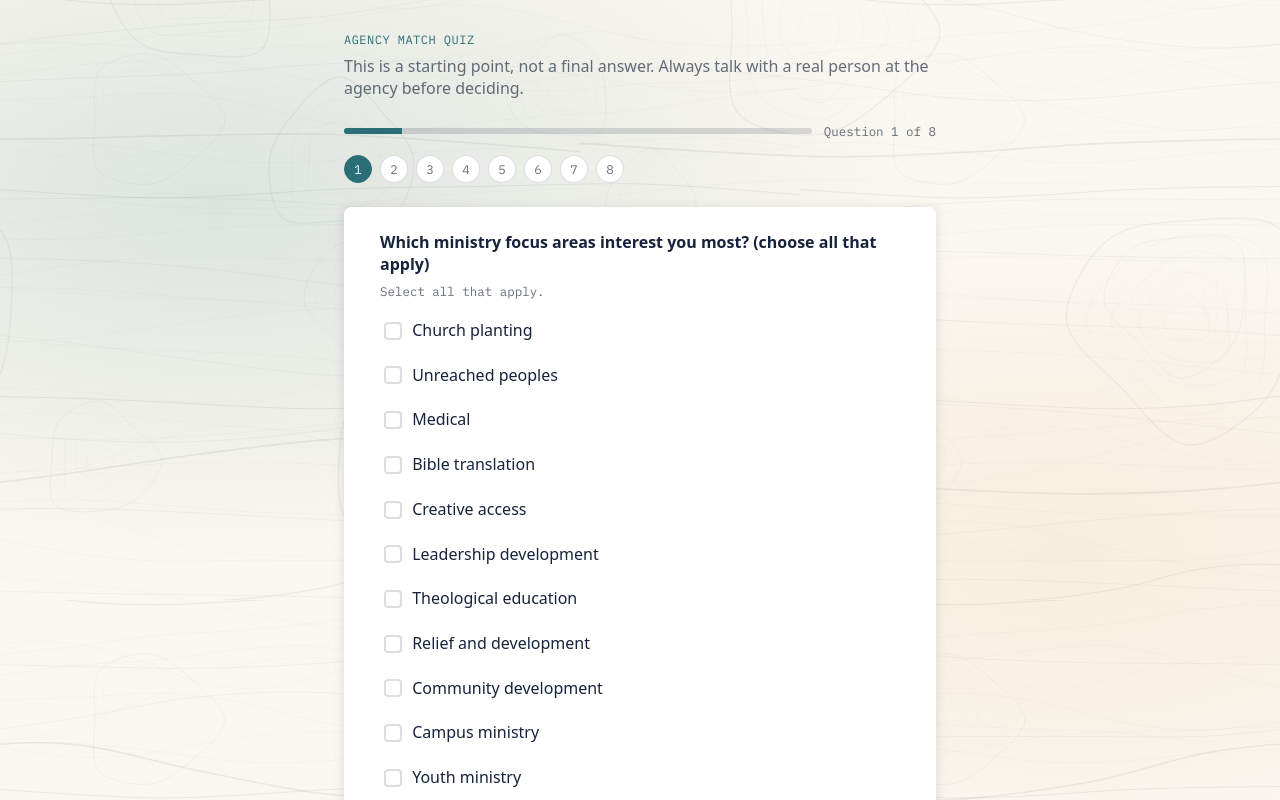
Test: MatchQuiz step navigation › marks a step dot as answered once that question has a value, and preserves the answer when navigating away and back
Click the checkbox labelled "Church planting".
click(393, 331)  # box x1=384 y1=322 x2=402 y2=340
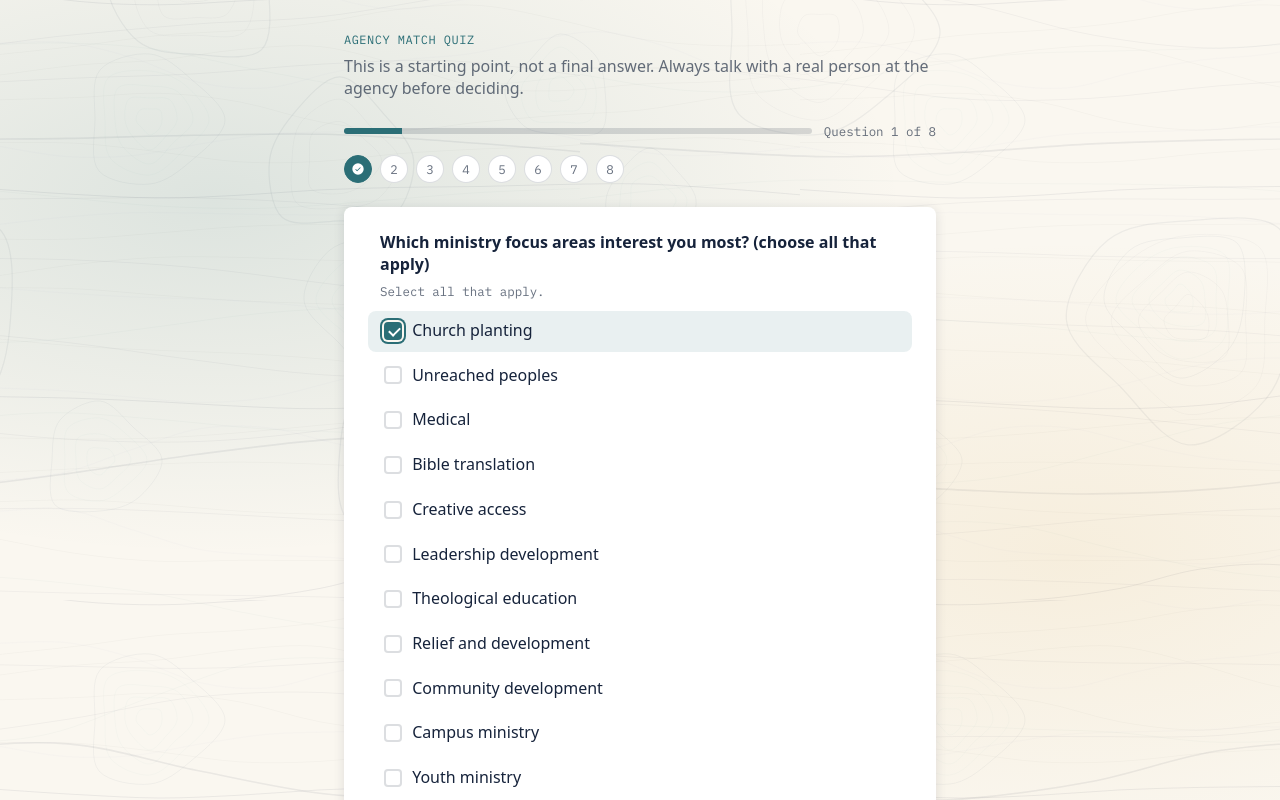
Expected: the button named "Question 1 (answered)" is shown, x1=344 y1=155 x2=372 y2=183
Click the button "3".
click(430, 169)  # box x1=416 y1=155 x2=444 y2=183
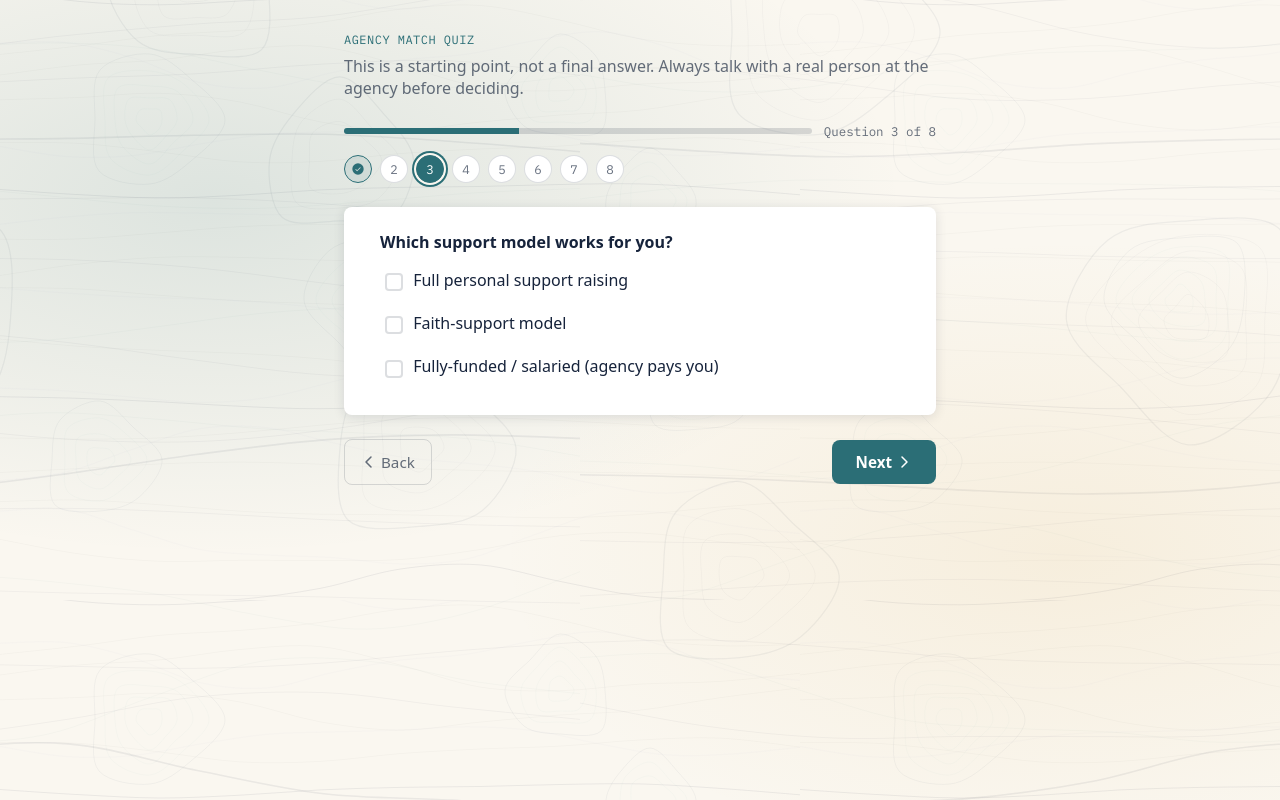
Click the button named "Question 1 (answered)".
click(358, 169)  # box x1=344 y1=155 x2=372 y2=183
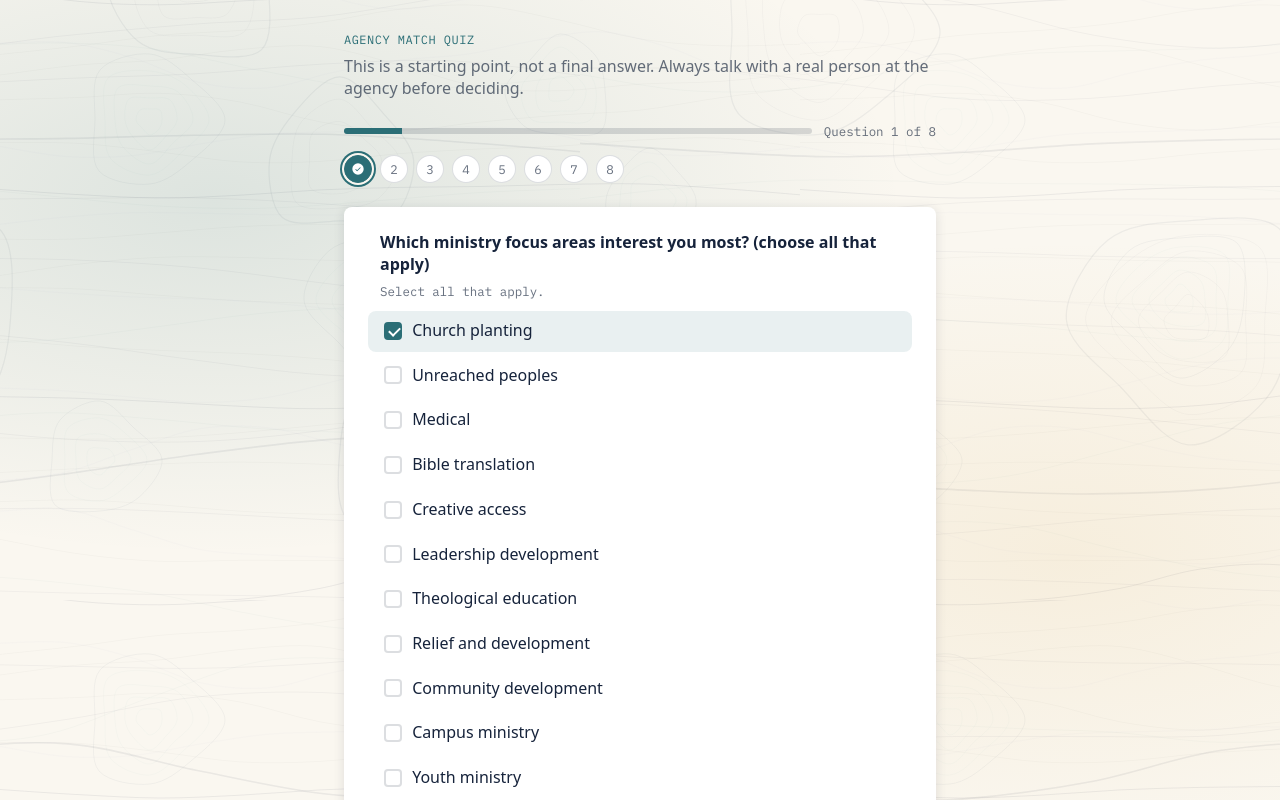
Now the checkbox labelled "Church planting" is checked, box x1=384 y1=322 x2=402 y2=340
